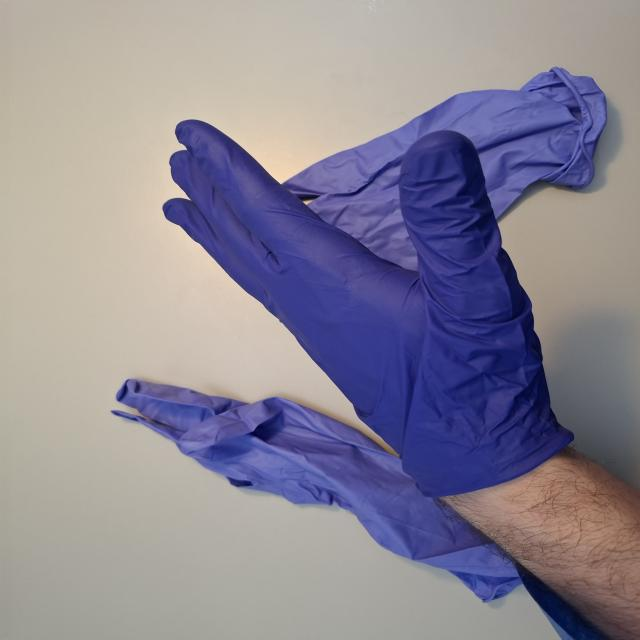glove_on: (158, 117, 577, 507)
